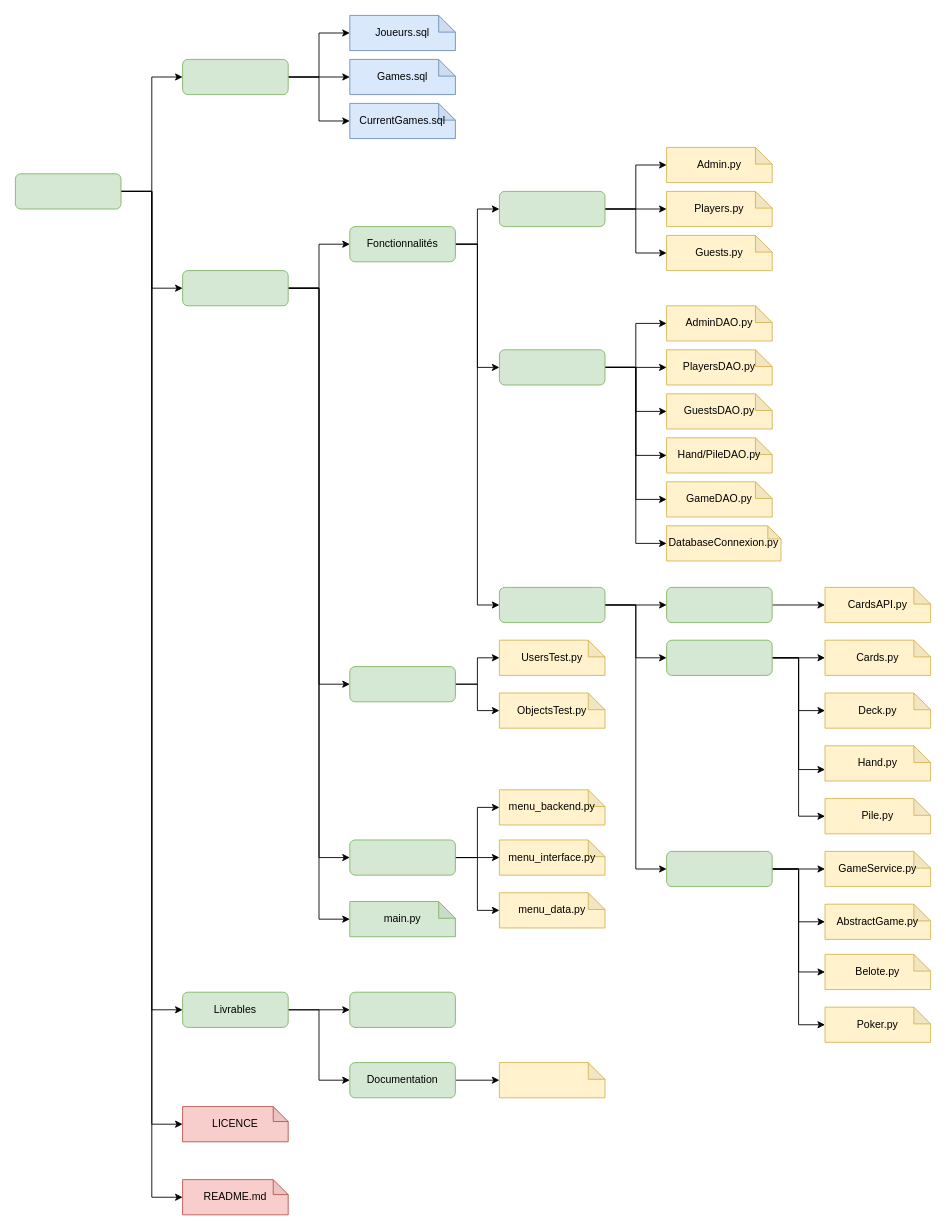
Some shapes in this 946 by 1230 pixel diagram are drawn without their labels. The shapes that lost their labels are listed below. From the top down, each one's box as (x1, y1, x2, y2) in pixels, then its label:
(182, 59, 288, 95): BDD
(15, 173, 121, 209): Projet Groupe 20
(499, 191, 605, 227): Classes Utilisateurs
(182, 270, 288, 306): App
(499, 349, 605, 385): DAO
(499, 587, 605, 623): Jeu
(666, 587, 772, 623): InteractionsAPI
(666, 639, 772, 675): CardsObjects
(349, 666, 455, 702): Tests
(349, 839, 455, 875): Menus (Interface)
(666, 851, 772, 887): GameMechanics
(349, 991, 455, 1027): Diagrammes
(499, 1062, 605, 1098): Users.html
